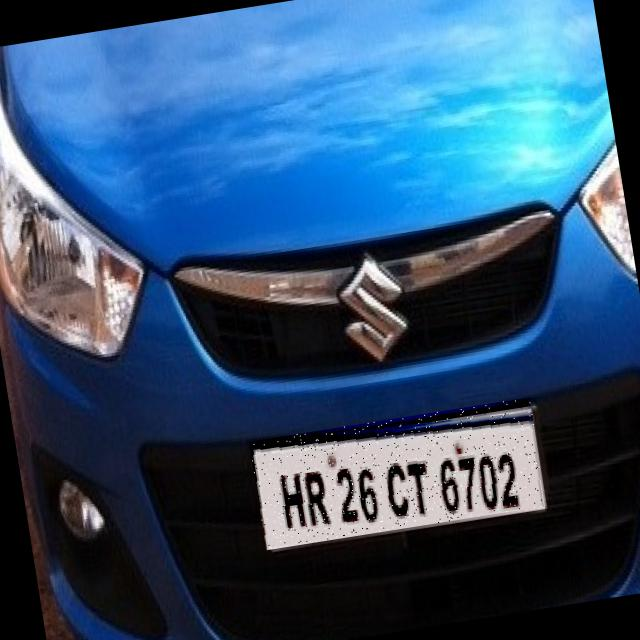Plate: (250, 398, 548, 551)
